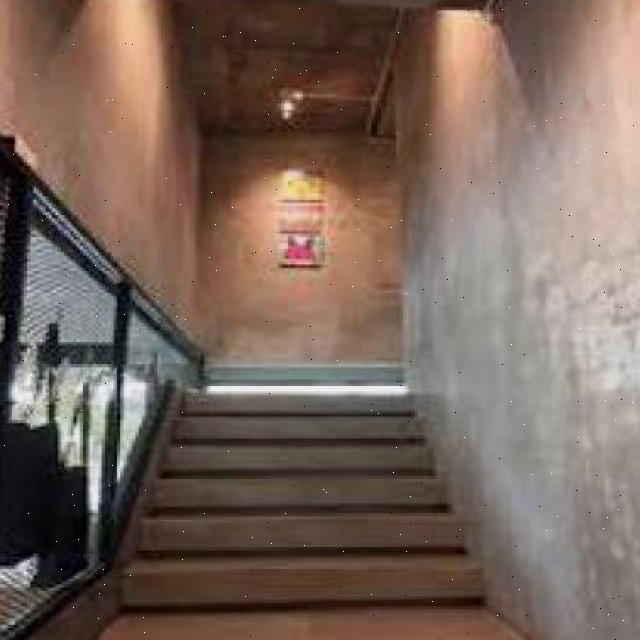stair: (124, 356, 474, 588)
